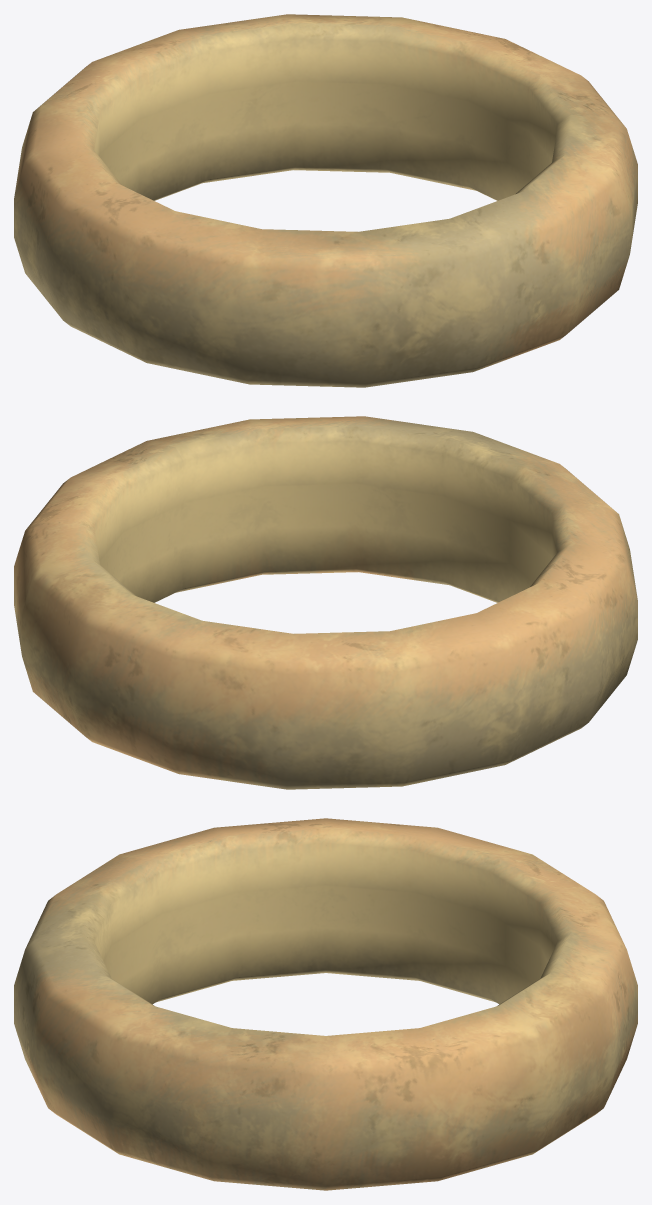
File: ring_e30b4da9.glb
3 views of the same model, one above another, from view 1: azimuth 30°, elevation 25°; view 2: azimuth 150°, elevation 25°; view 3: azimuth 270°, elevation 25° (orthographic).
Parts seen in each view (by area): view 1: ring; view 2: ring; view 3: ring.
Boxes of the visible parts, x1,y1,x2,y2 form: ring: (14, 14, 637, 387); ring: (14, 416, 637, 789); ring: (14, 818, 637, 1190).
Bounding box in the file's own units: 3 × 0.7657 × 3.
Materials: 1 (1 with a texture image).
